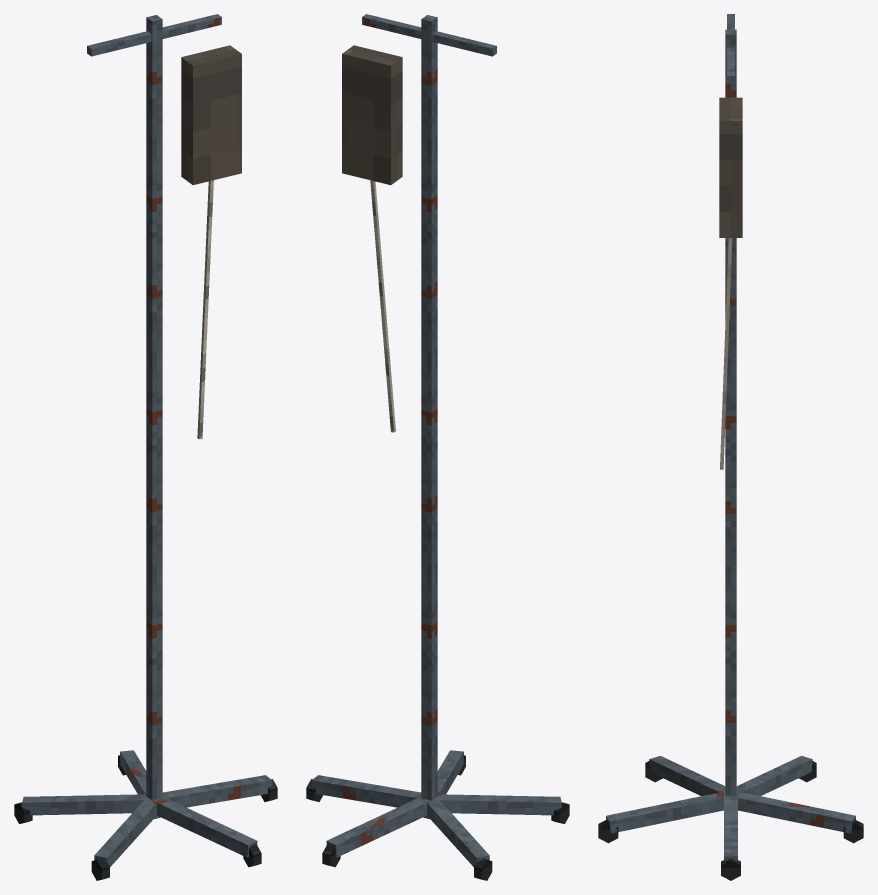
File: iv_stand.gltf
3 views of the same model, side by side, from view 1: azimuth 30°, elevation 25°; view 2: azimuth 150°, elevation 25°; view 3: azimuth 270°, elevation 25° (orthographic). The views are drawn at different scales.
Visible parts, largest first — view 1: iv_stand; view 2: iv_stand; view 3: iv_stand.
Boxes of the visible parts, <box> form: iv_stand: <box>14,14,277,880</box>; iv_stand: <box>306,14,569,880</box>; iv_stand: <box>598,14,863,880</box>.
Size of the model in its own units: 0.5265 by 1.9 by 0.5759.
4 materials, 4 textured.
